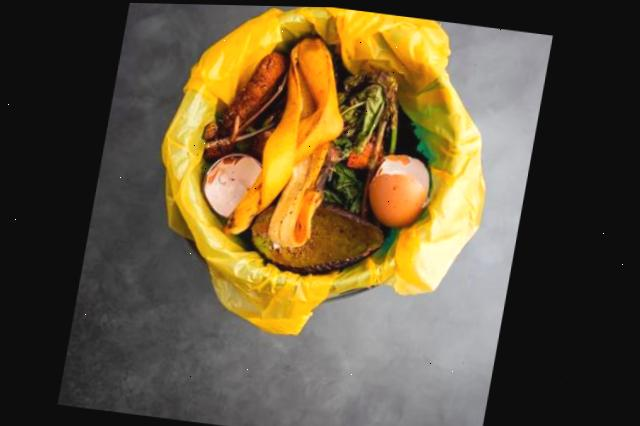Garbage: (203, 30, 449, 281)
